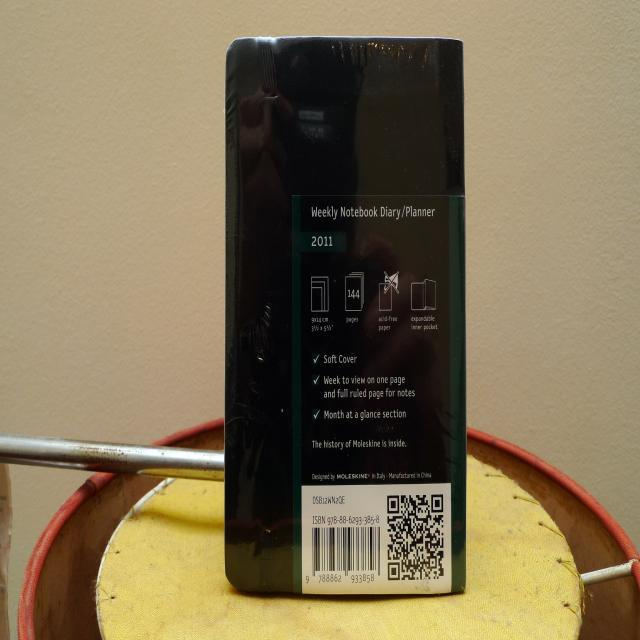qr-code: (387, 494, 444, 580)
